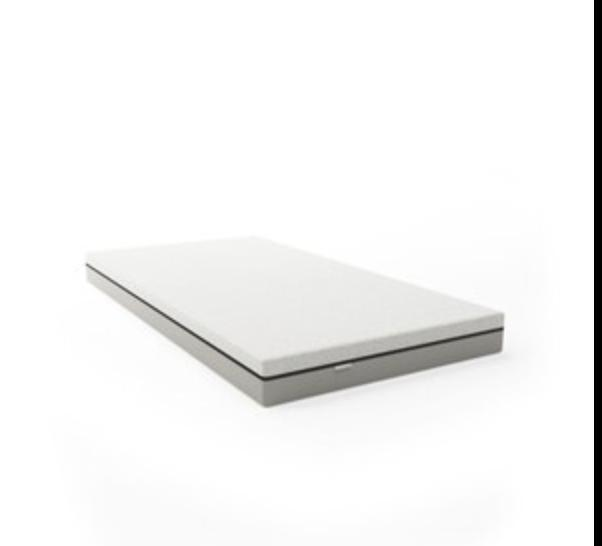Bed-Mattress: (79, 230, 513, 416)
